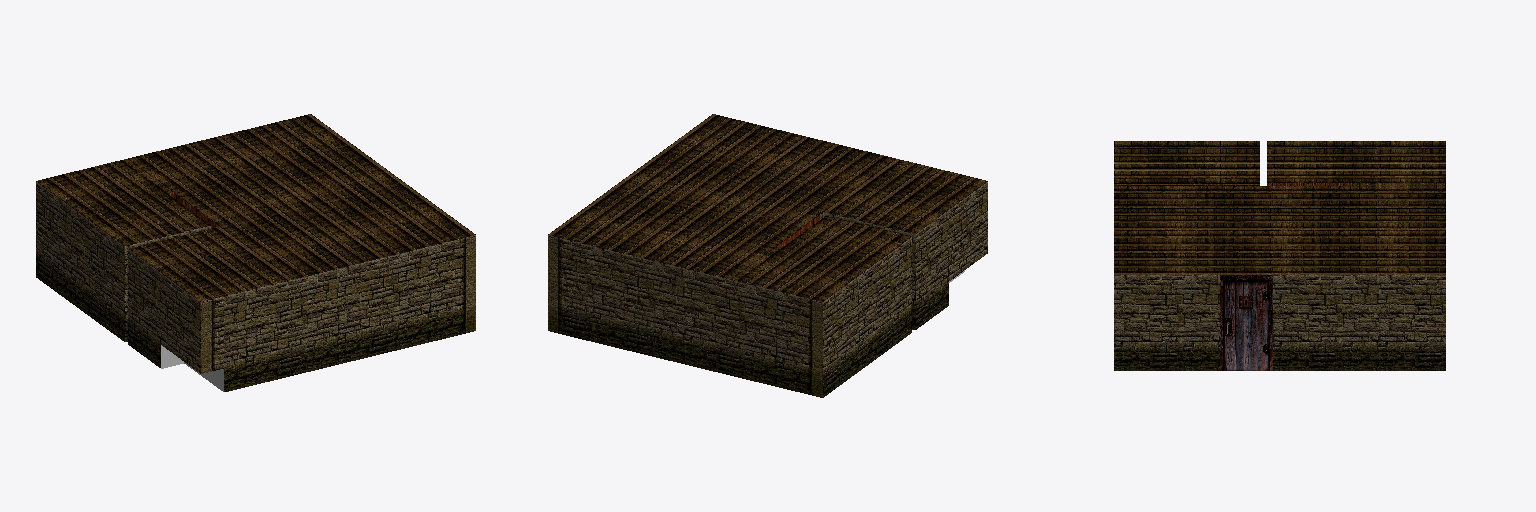
The picture shows the model from 3 angles: view 1: azimuth 30°, elevation 25°; view 2: azimuth 150°, elevation 25°; view 3: azimuth 270°, elevation 25°; orthographic projection.
Parts seen in each view (by area): view 1: Room1; view 2: Room1; view 3: Room1.
Boxes of the visible parts, box(x1,y1,x2,y2) form: Room1: box(36, 114, 475, 391); Room1: box(548, 114, 987, 397); Room1: box(1114, 141, 1445, 370).
Size of the model in its own units: 768 by 256 by 800.
8 materials, 7 textured.